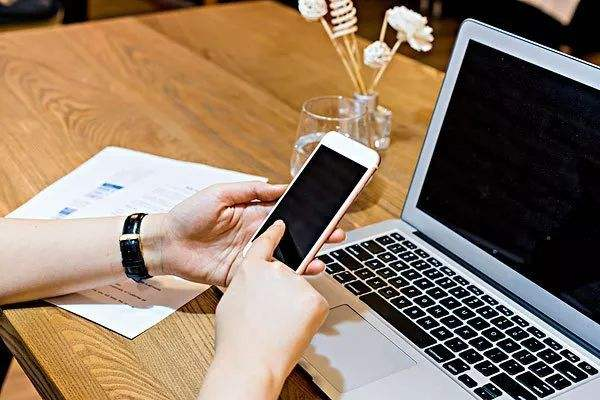reading: (156, 127, 385, 376)
